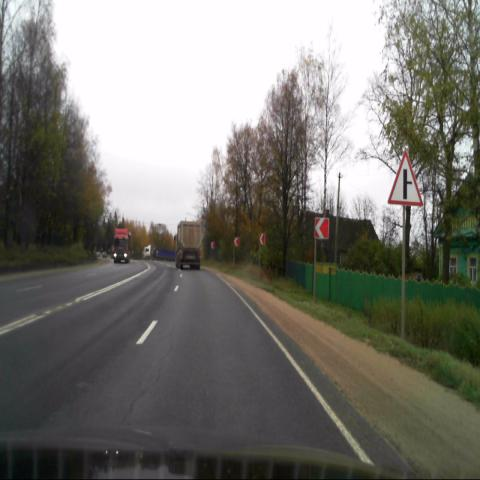2_3_2: (388, 149, 423, 207)
